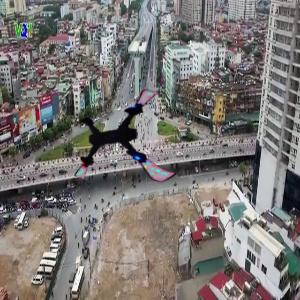drone: (74, 83, 180, 189)
